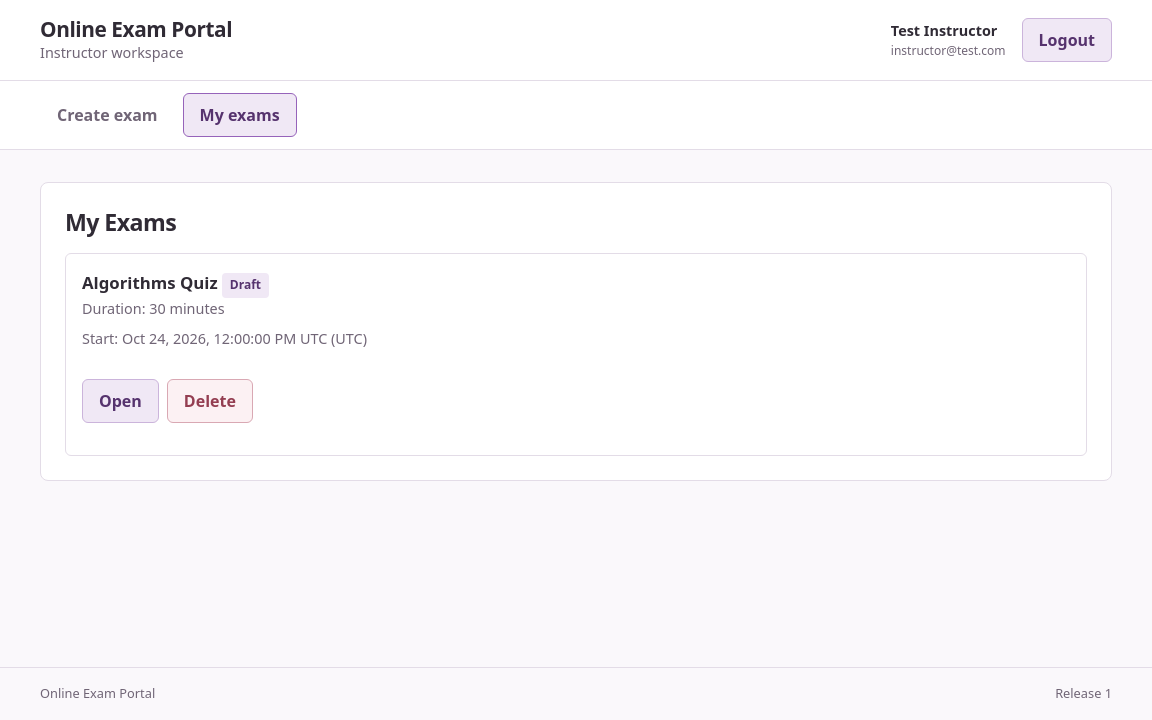
Test: Authenticated Instructor exam management › UI-EXAM-06: cancels deletion without sending a destructive request
expect the text "Test Instructor" is shown: met, box [891,21,997,40]
Click the button "Delete" at [210, 401], box [167,379,253,423]
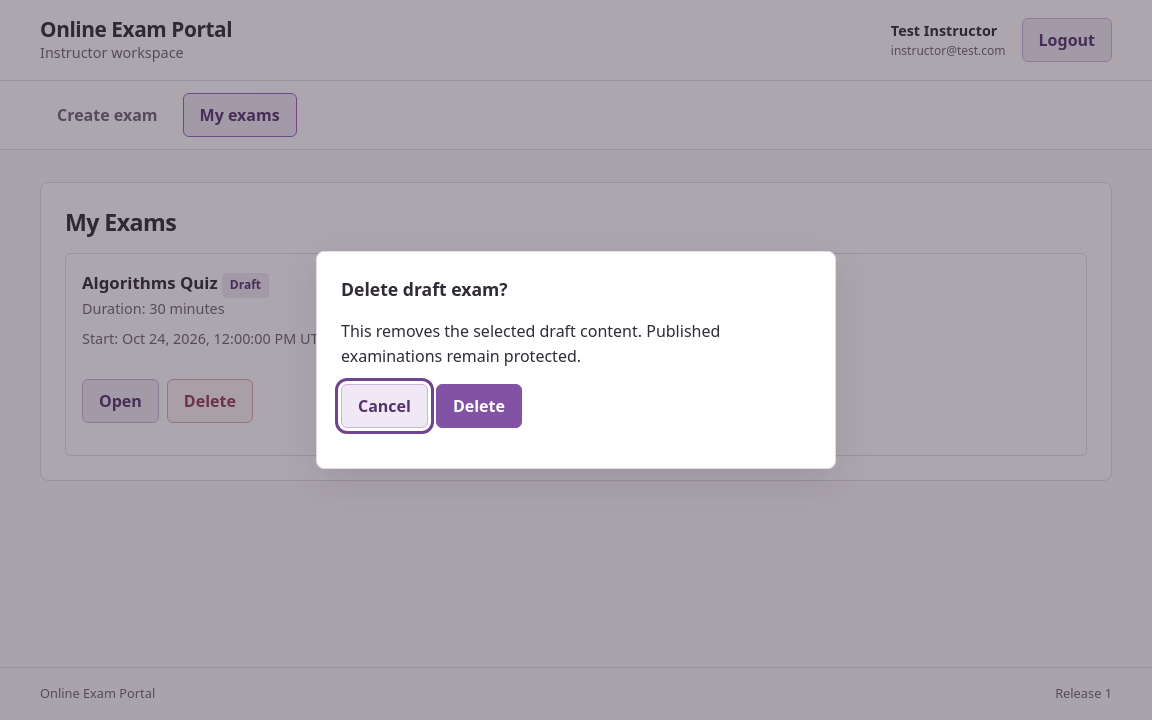
Click the button "Cancel" at [384, 406], box [341,384,428,428]
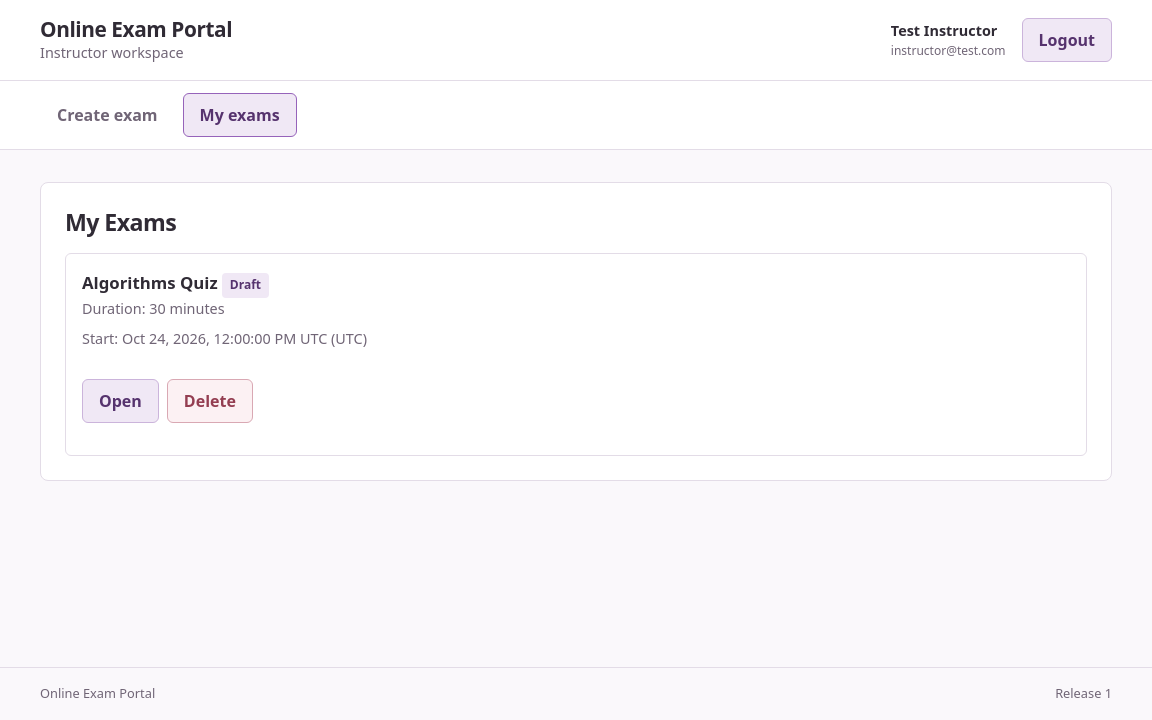
expect the dialog is gone: met
